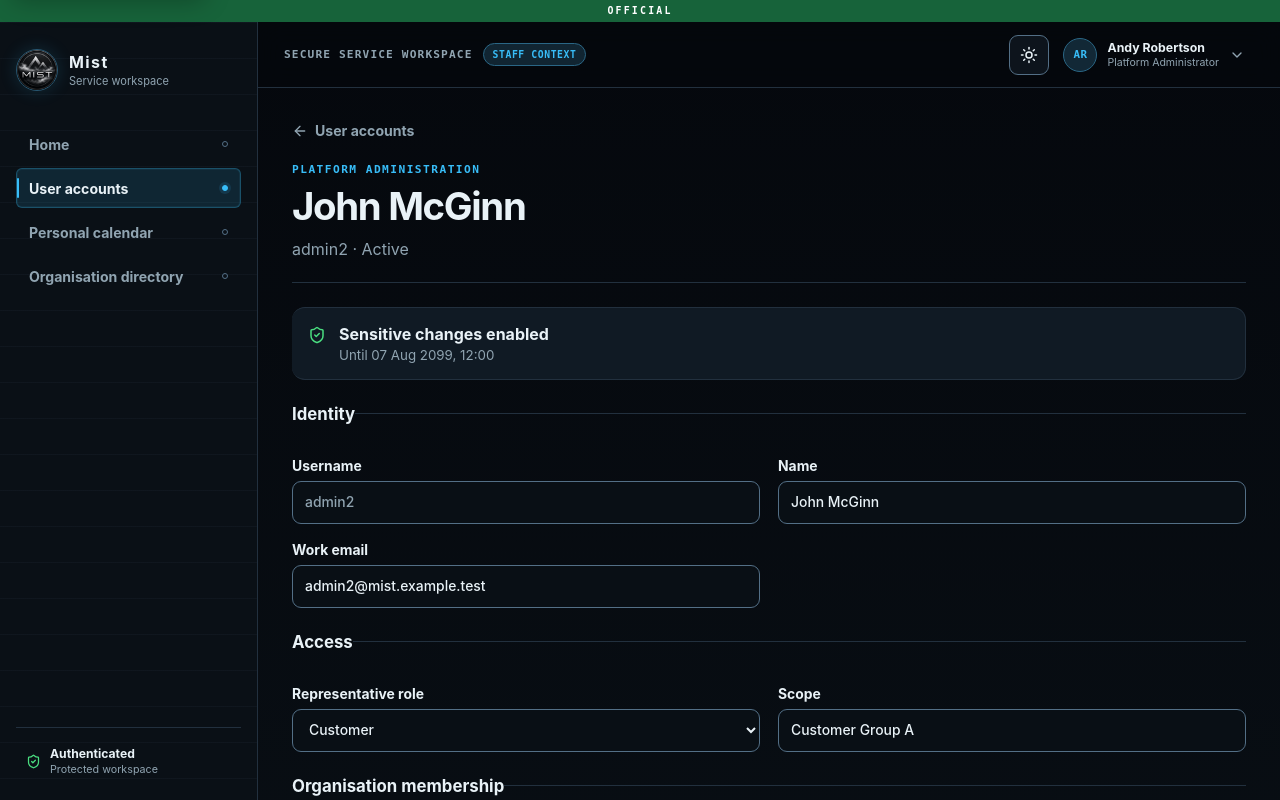
Test case: platform administrator user management › edits and reversibly deactivates an account with version checks
Expected: the heading "John McGinn" is shown, [292,183,526,229]
Replace the text in the field labelled "Name" with "John McGinn Updated" at (1012, 502), box [778,481,1246,524]
(page scrolled)
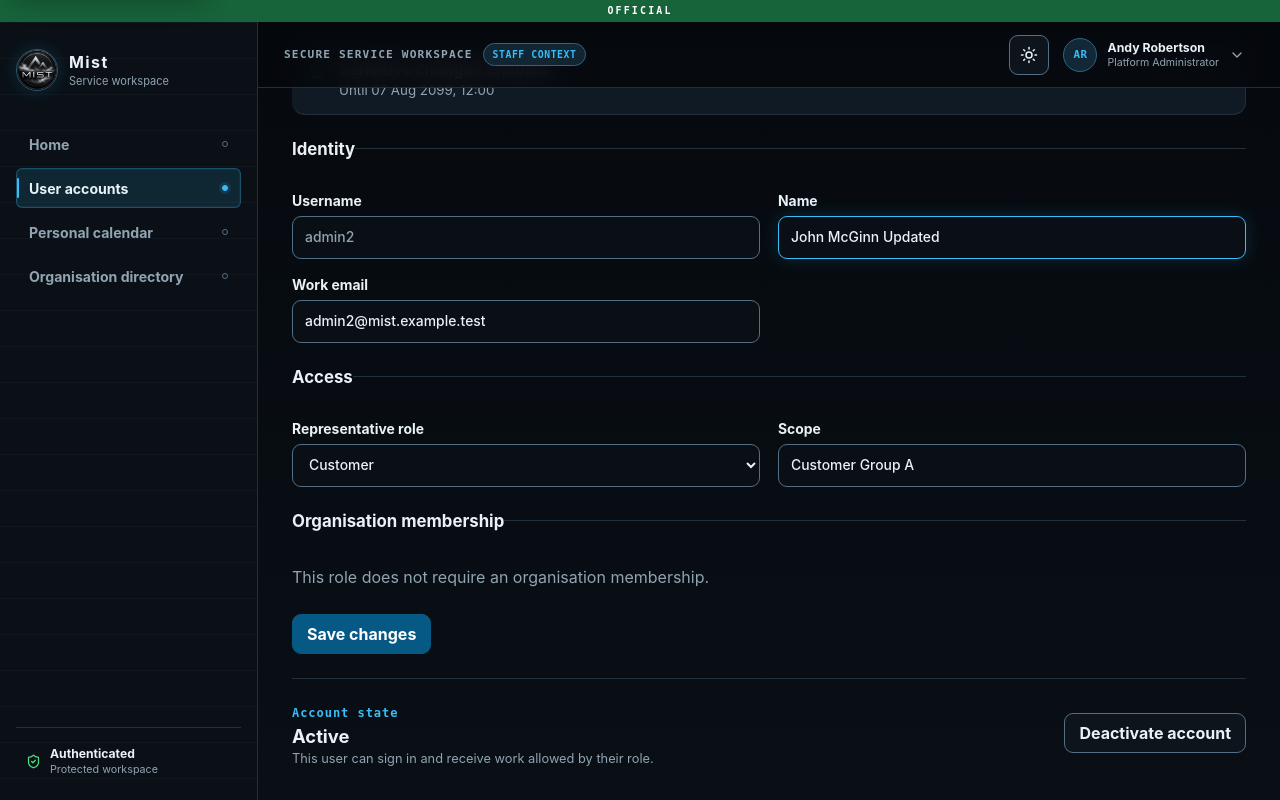
Click the button "Save changes" at (362, 634), box [292,614,431,654]
(page scrolled)
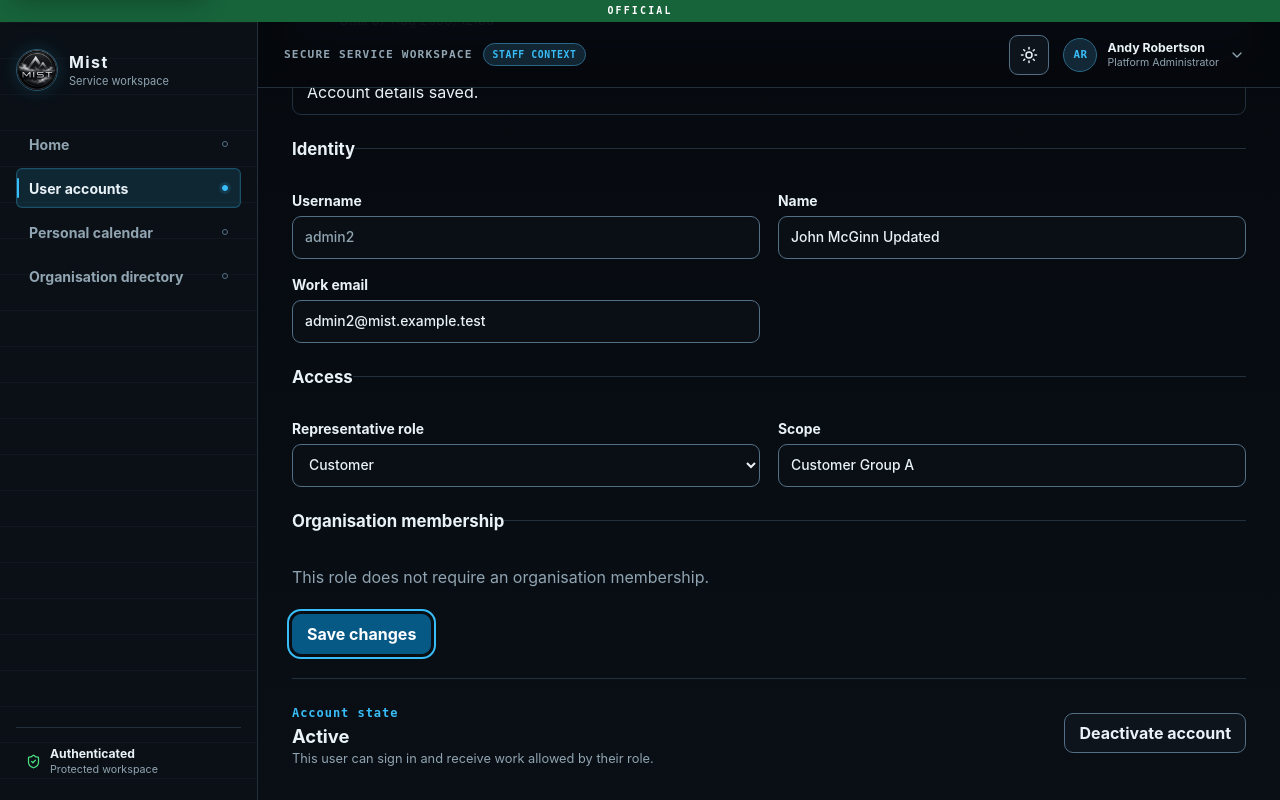
Expected: the text "Account details saved." is shown, [292,69,1246,115]
Click the button "Deactivate account" at (1155, 733), box [1064,713,1246,753]
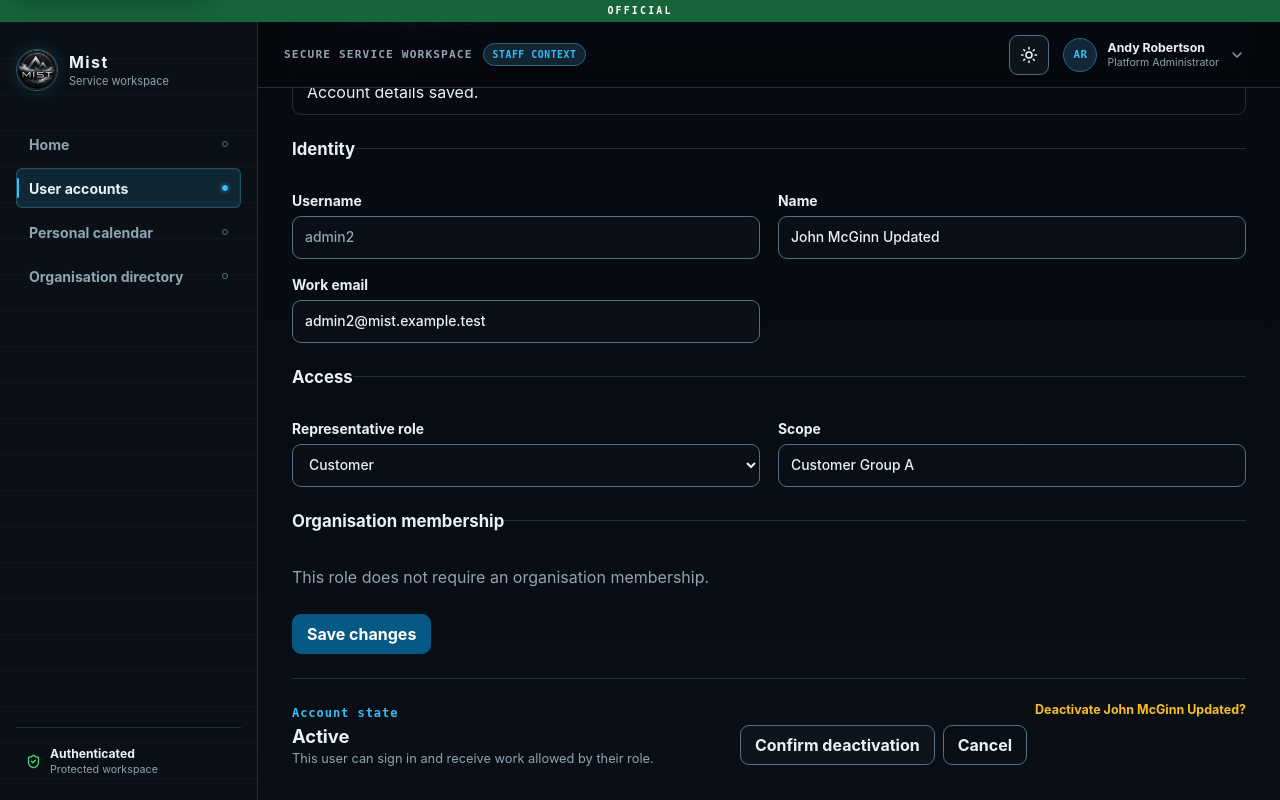
Click the button "Confirm deactivation" at (837, 745), box [740,725,935,765]
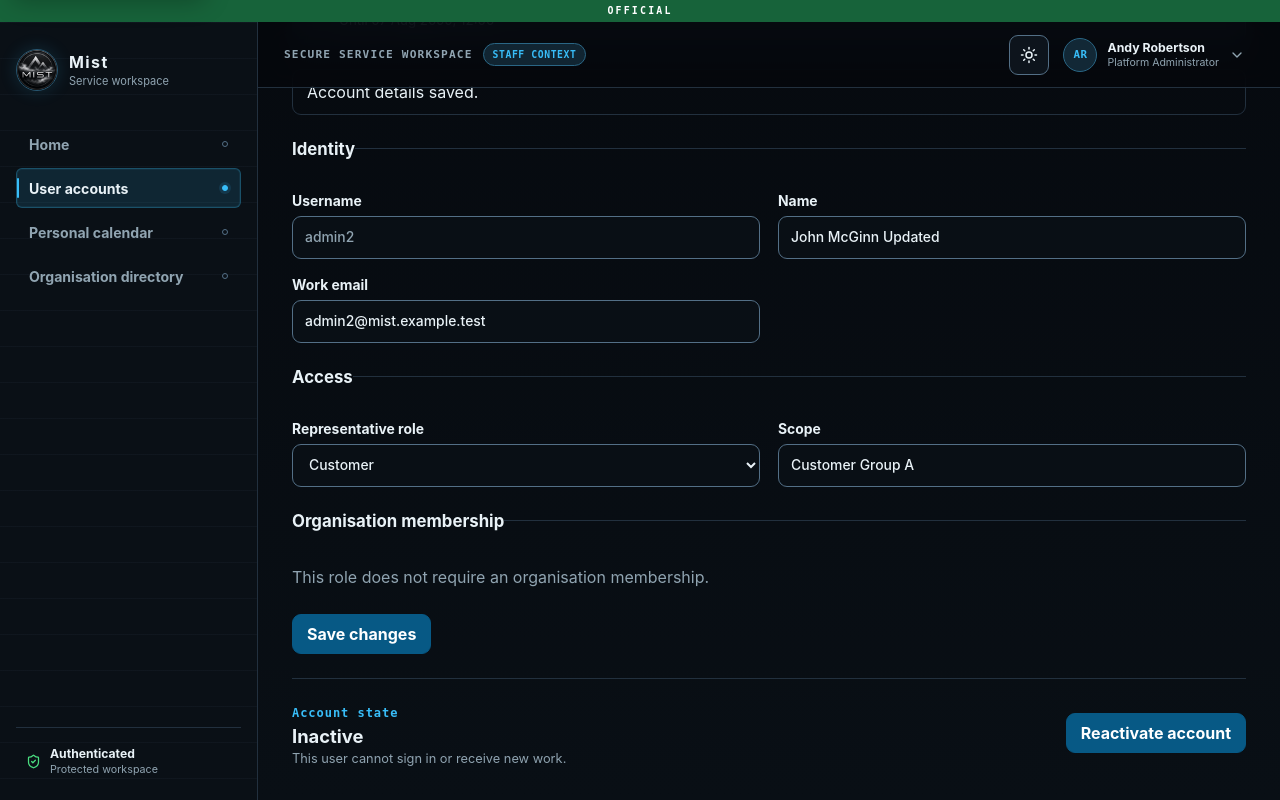
Expected: the button "Reactivate account" is shown
Click the button "Reactivate account" at (1156, 733), box [1066,713,1246,753]
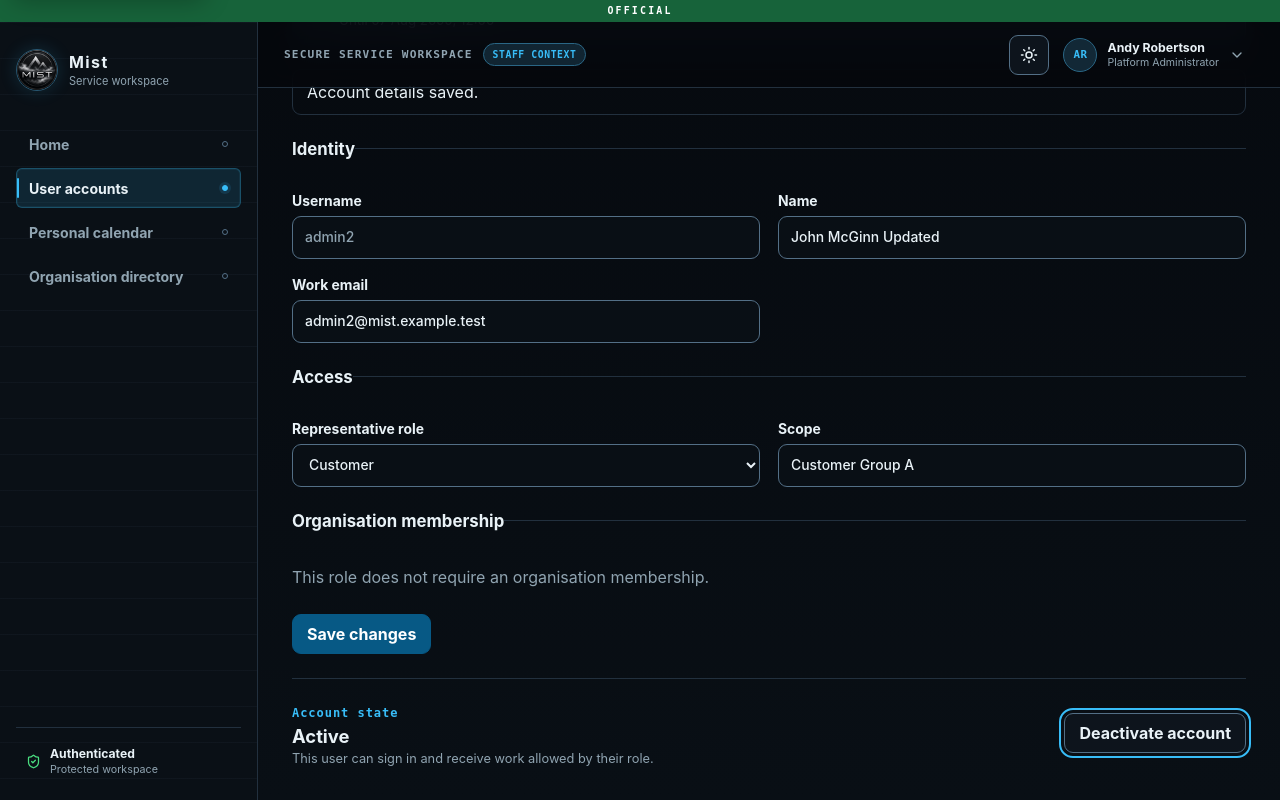
Expected: the button "Deactivate account" is shown, [1064,713,1246,753]
